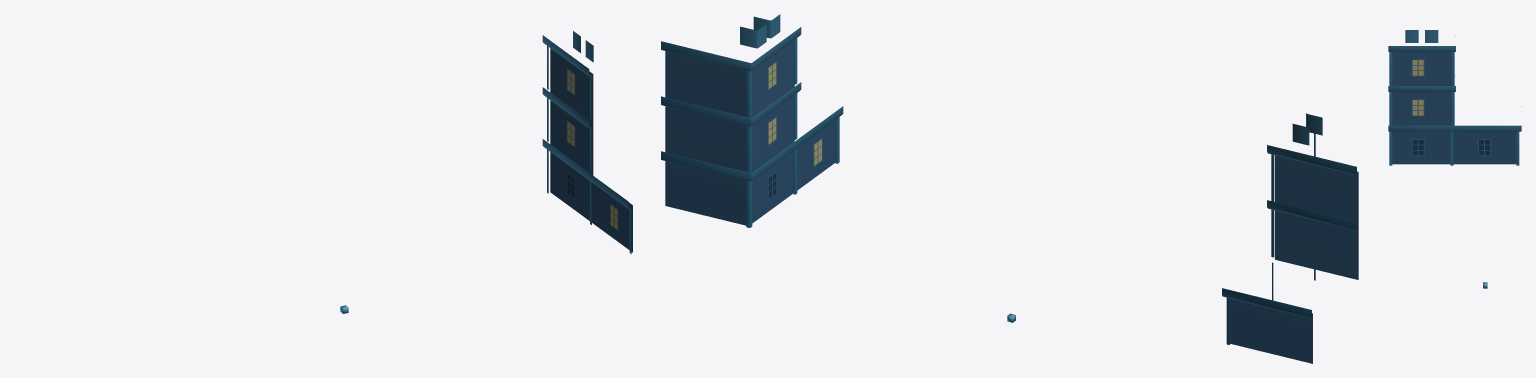
File: FarBackBuilding02Night.glb
The picture shows the model from 3 angles, left to right: view 1: azimuth 30°, elevation 25°; view 2: azimuth 150°, elevation 25°; view 3: azimuth 270°, elevation 25°; orthographic projection. The views are drawn at different scales.
Parts seen in each view (by area): view 1: FarBackBuilding02Night; view 2: FarBackBuilding02Night; view 3: FarBackBuilding02Night.
Boxes of the visible parts, x1,y1,x2,y2 form: FarBackBuilding02Night: [340, 31, 632, 313]; FarBackBuilding02Night: [661, 14, 1358, 363]; FarBackBuilding02Night: [1388, 30, 1521, 288].
Size of the model in its own units: 76.34 by 26.28 by 18.69.
